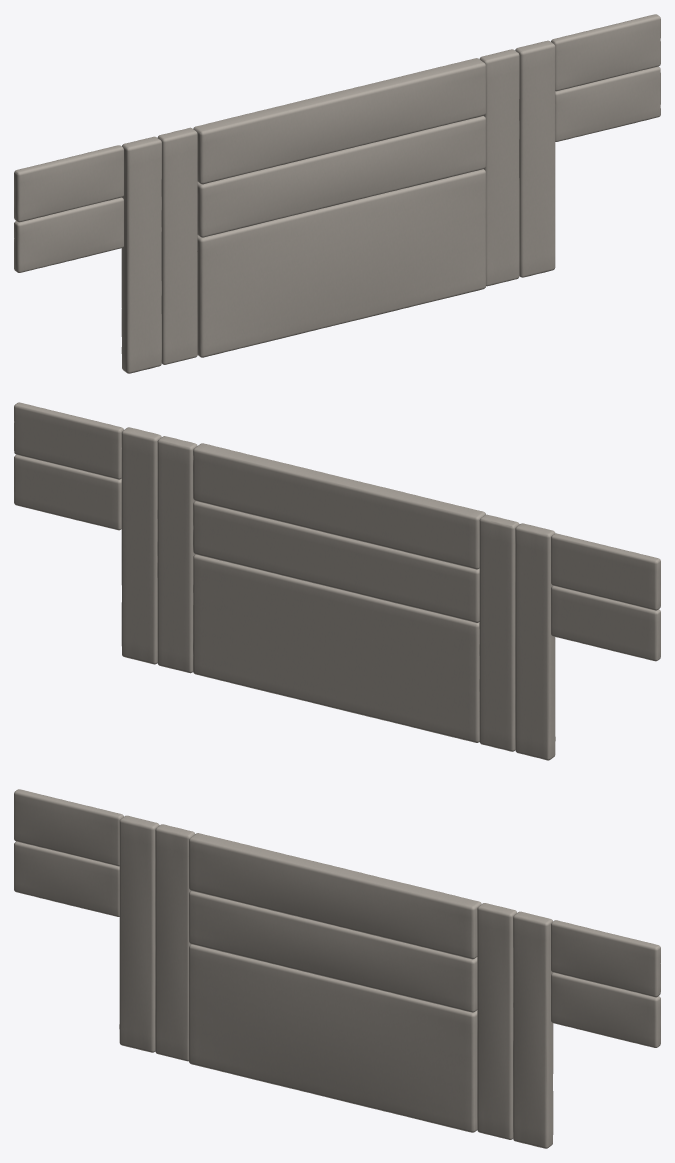
The model's file is stanza-headboard-panels-01.glb.
3 renders of one model, top to bottom at view 1: azimuth 30°, elevation 25°; view 2: azimuth 150°, elevation 25°; view 3: azimuth 330°, elevation 25°, orthographic.
Visible parts, largest first — view 1: center_panel_bottom, center_panel_top, center_panel_middle, strip_left_outer, strip_right_outer, strip_left_inner, strip_right_inner, side_left_top, side_right_top, side_left_bottom, side_right_bottom; view 2: center_panel_bottom, center_panel_top, center_panel_middle, strip_left_outer, strip_left_inner, strip_right_outer, strip_right_inner, side_left_top, side_right_top, side_left_bottom, side_right_bottom; view 3: center_panel_bottom, center_panel_top, center_panel_middle, strip_right_outer, strip_left_outer, strip_right_inner, strip_left_inner, side_right_top, side_left_top, side_right_bottom, side_left_bottom.
Part boxes in pixels (<box>): center_panel_bottom: <box>197,169,485,357</box>; center_panel_top: <box>193,58,485,184</box>; center_panel_middle: <box>197,116,485,237</box>; strip_left_outer: <box>121,136,161,373</box>; strip_right_outer: <box>515,40,555,277</box>; strip_left_inner: <box>157,127,197,364</box>; strip_right_inner: <box>479,49,519,286</box>; side_left_top: <box>14,145,123,222</box>; side_right_top: <box>551,14,660,91</box>; side_left_bottom: <box>14,197,123,272</box>; side_right_bottom: <box>555,66,660,141</box>; center_panel_bottom: <box>193,554,479,742</box>; center_panel_top: <box>193,443,485,569</box>; center_panel_middle: <box>193,501,479,622</box>; strip_left_outer: <box>515,523,555,760</box>; strip_left_inner: <box>479,514,519,751</box>; strip_right_outer: <box>121,427,161,664</box>; strip_right_inner: <box>157,436,197,673</box>; side_left_top: <box>551,533,660,610</box>; side_right_top: <box>14,402,123,479</box>; side_left_bottom: <box>551,585,660,661</box>; side_right_bottom: <box>14,454,121,530</box>; center_panel_bottom: <box>189,944,477,1132</box>; center_panel_top: <box>188,833,481,959</box>; center_panel_middle: <box>189,891,477,1012</box>; strip_right_outer: <box>513,911,553,1148</box>; strip_left_outer: <box>119,815,159,1052</box>; strip_right_inner: <box>477,903,517,1139</box>; strip_left_inner: <box>155,824,194,1061</box>; side_right_top: <box>551,920,660,997</box>; side_left_top: <box>14,789,123,866</box>; side_right_bottom: <box>551,972,660,1047</box>; side_left_bottom: <box>14,841,119,916</box>.
Bounding box in the file's own units: 3.6 × 1.21 × 0.1027.
Materials: 1 (1 with a texture image).
